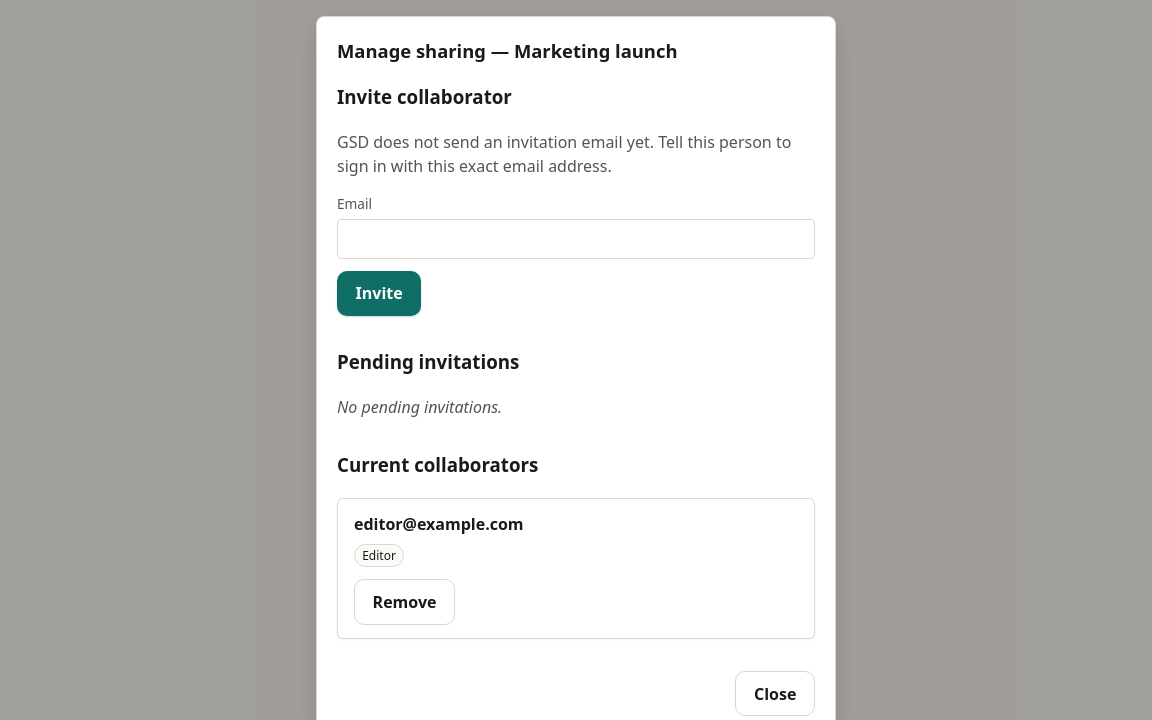
Test: ManageSharingDialog — current collaborators › cancelling the confirmation does not remove the collaborator
This screenshot has width=1152, height=720.
Expected: the heading "editor@example.com" is shown, [354,513,524,535]
Click the button "Remove". click: click(405, 602)
box: [354,580,455,625]
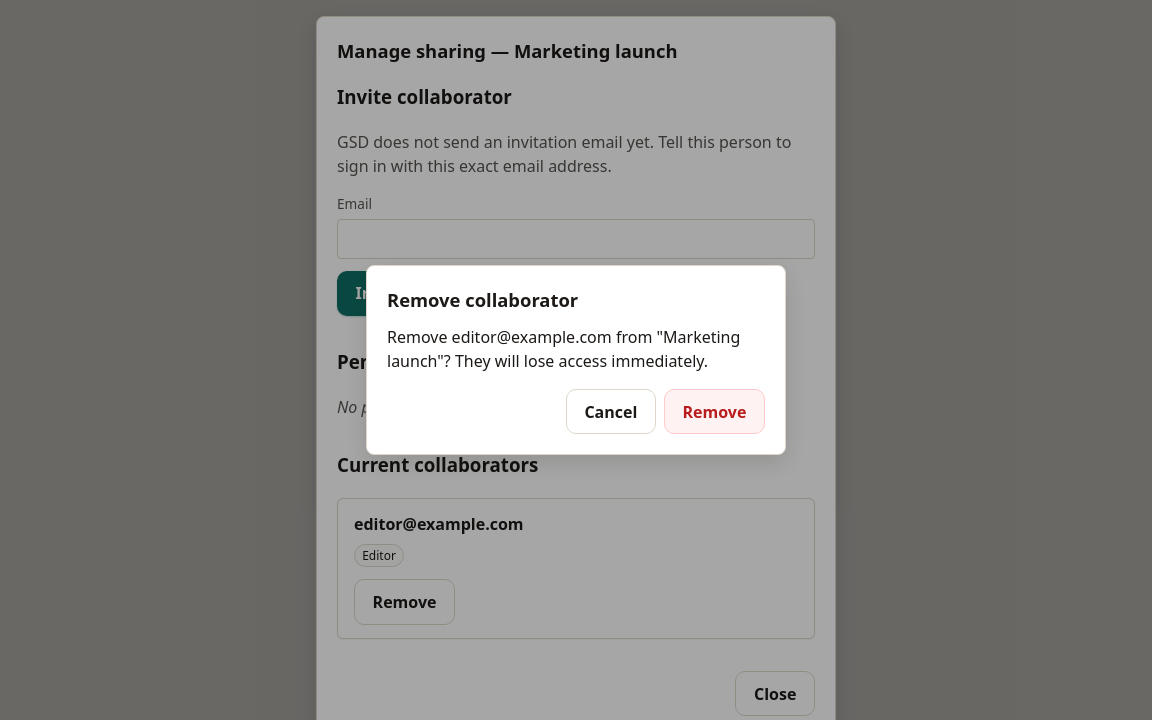
Click the button "Cancel". click: click(611, 412)
box: [566,389,656,434]
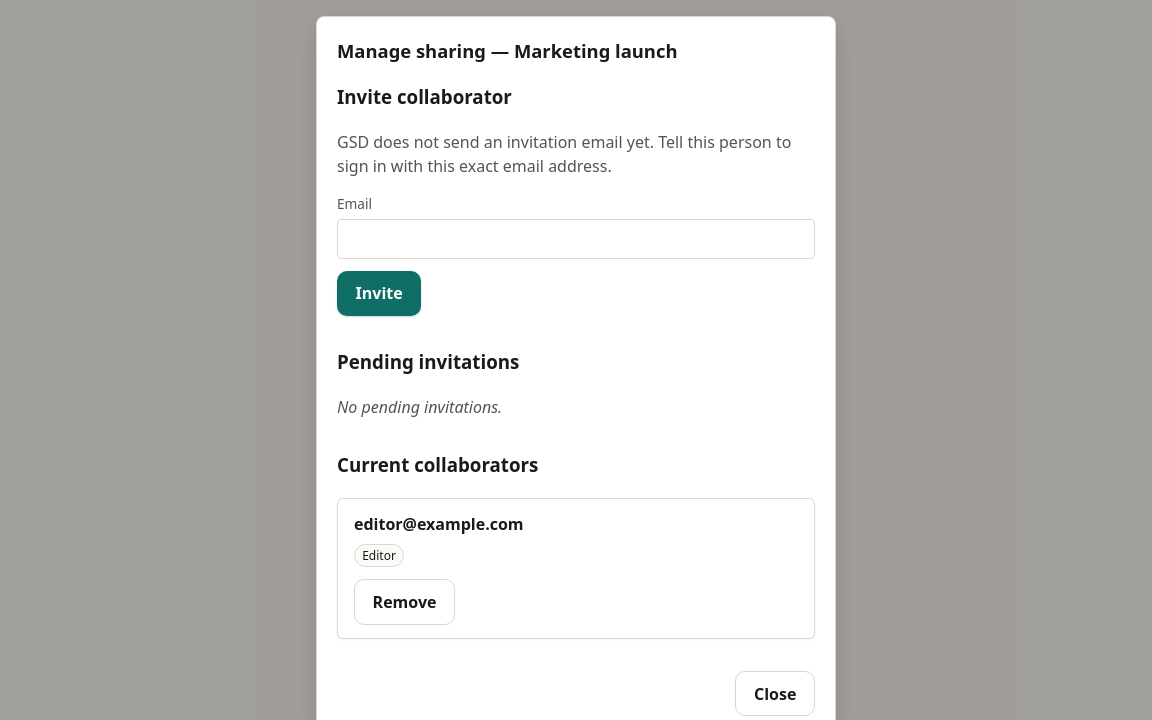
Expected: the heading "Remove collaborator" is gone
